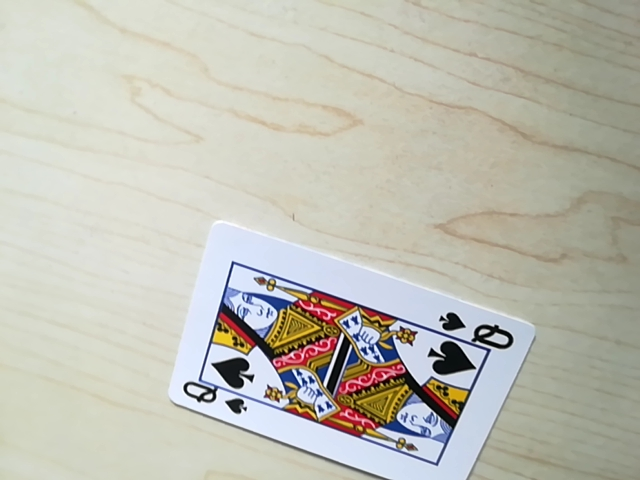ht q: (433, 310, 518, 348), (177, 378, 251, 418)
